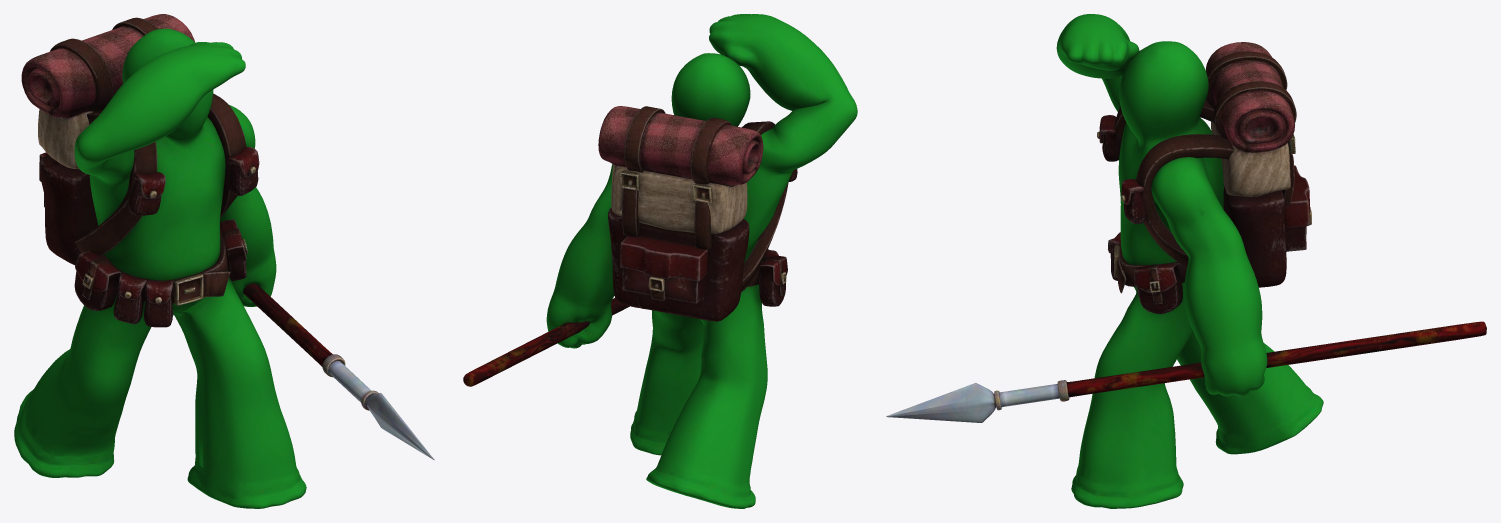
Rendered from MZ4250 - Plasmoid Explorer (Green).glb.
3 renders of one model, left to right at view 1: azimuth 30°, elevation 25°; view 2: azimuth 150°, elevation 25°; view 3: azimuth 270°, elevation 25°, orthographic. The views are drawn at different scales.
Parts seen in each view (by area): view 1: Plasmoid Explorer.001; view 2: Plasmoid Explorer.001; view 3: Plasmoid Explorer.001.
Boxes of the visible parts, x1,y1,x2,y2 form: Plasmoid Explorer.001: (14,14,434,508); Plasmoid Explorer.001: (463,14,857,508); Plasmoid Explorer.001: (886,14,1486,508).
Size of the model in its own units: 118 by 200 by 250.
1 material, 1 textured.
